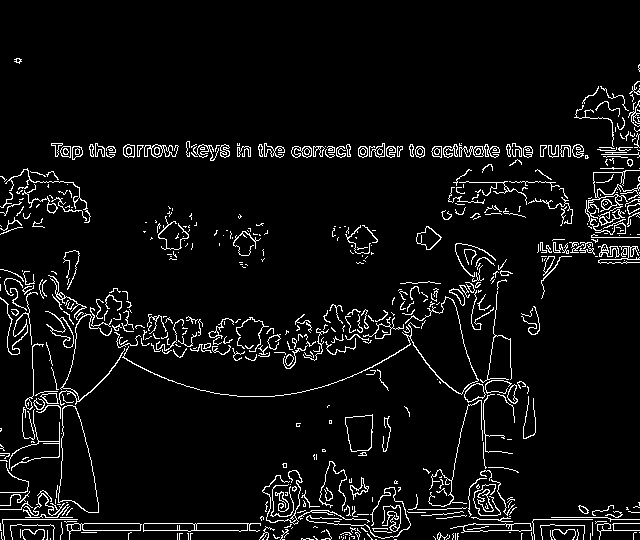rune_box: (109, 195, 524, 292)
